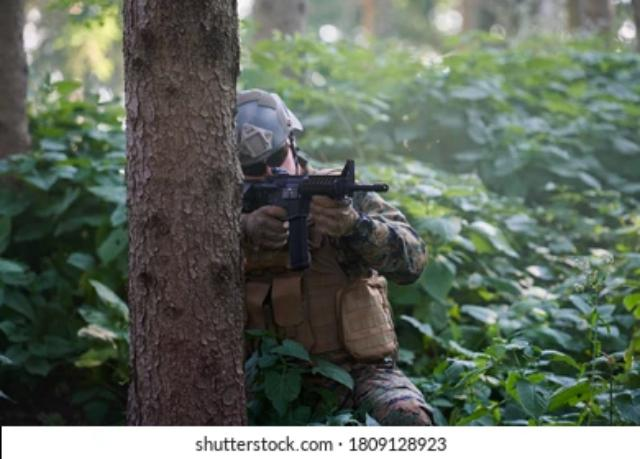other: (245, 87, 425, 420)
